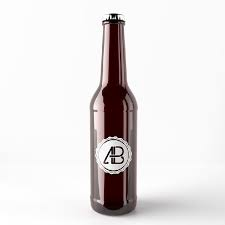glass_bottle: (83, 8, 146, 220)
